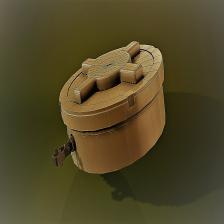PMN2: (55, 37, 173, 181)
